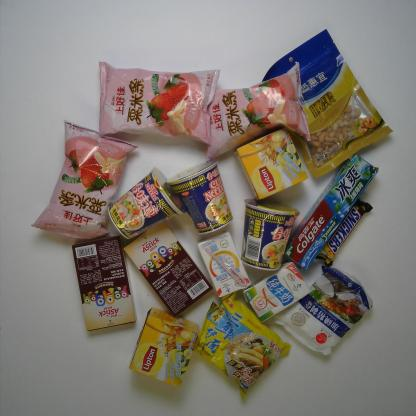Chocolate: (314, 198, 374, 266)
Dessert: (123, 218, 216, 322), (69, 234, 138, 335)
Dried Fruit: (262, 26, 396, 181)
Instant Drink: (128, 306, 202, 390), (234, 126, 311, 202)
Instant Noodles: (193, 289, 294, 403), (105, 166, 188, 243), (164, 161, 235, 237), (239, 196, 304, 274)
Milk: (242, 260, 314, 325), (197, 229, 255, 301)
Personal Hygiene: (283, 154, 380, 272)
Puffed Food: (29, 118, 140, 242), (194, 61, 314, 162), (92, 60, 222, 146)
Seasoner: (272, 258, 376, 358)
